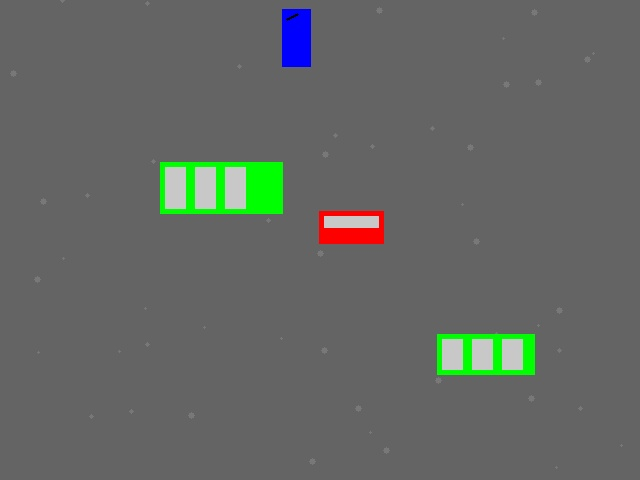bus: (160, 162, 282, 213), (437, 334, 534, 374)
car: (319, 211, 383, 243)
motorcycle: (282, 9, 310, 66)
